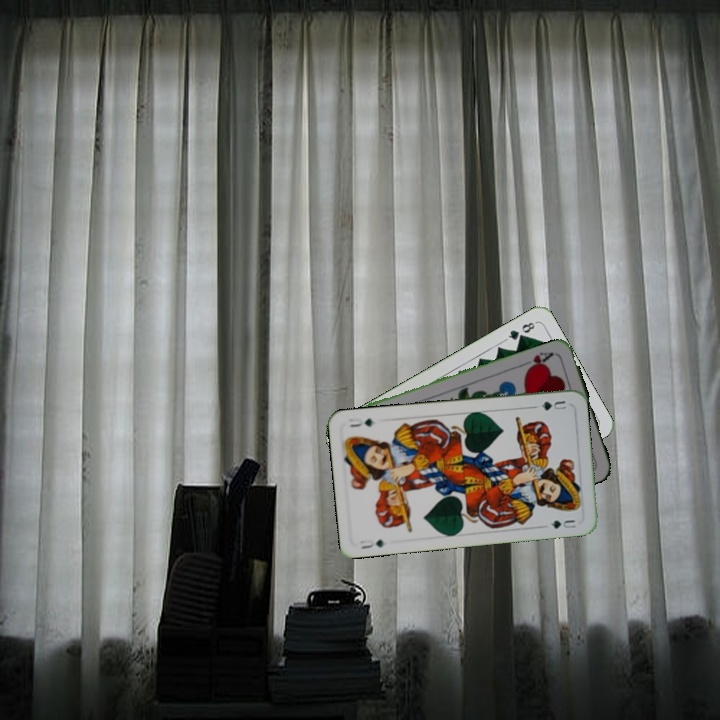G8: (502, 318, 539, 343)
GU: (537, 396, 570, 413), (355, 535, 387, 551)
HA: (523, 348, 556, 373)
